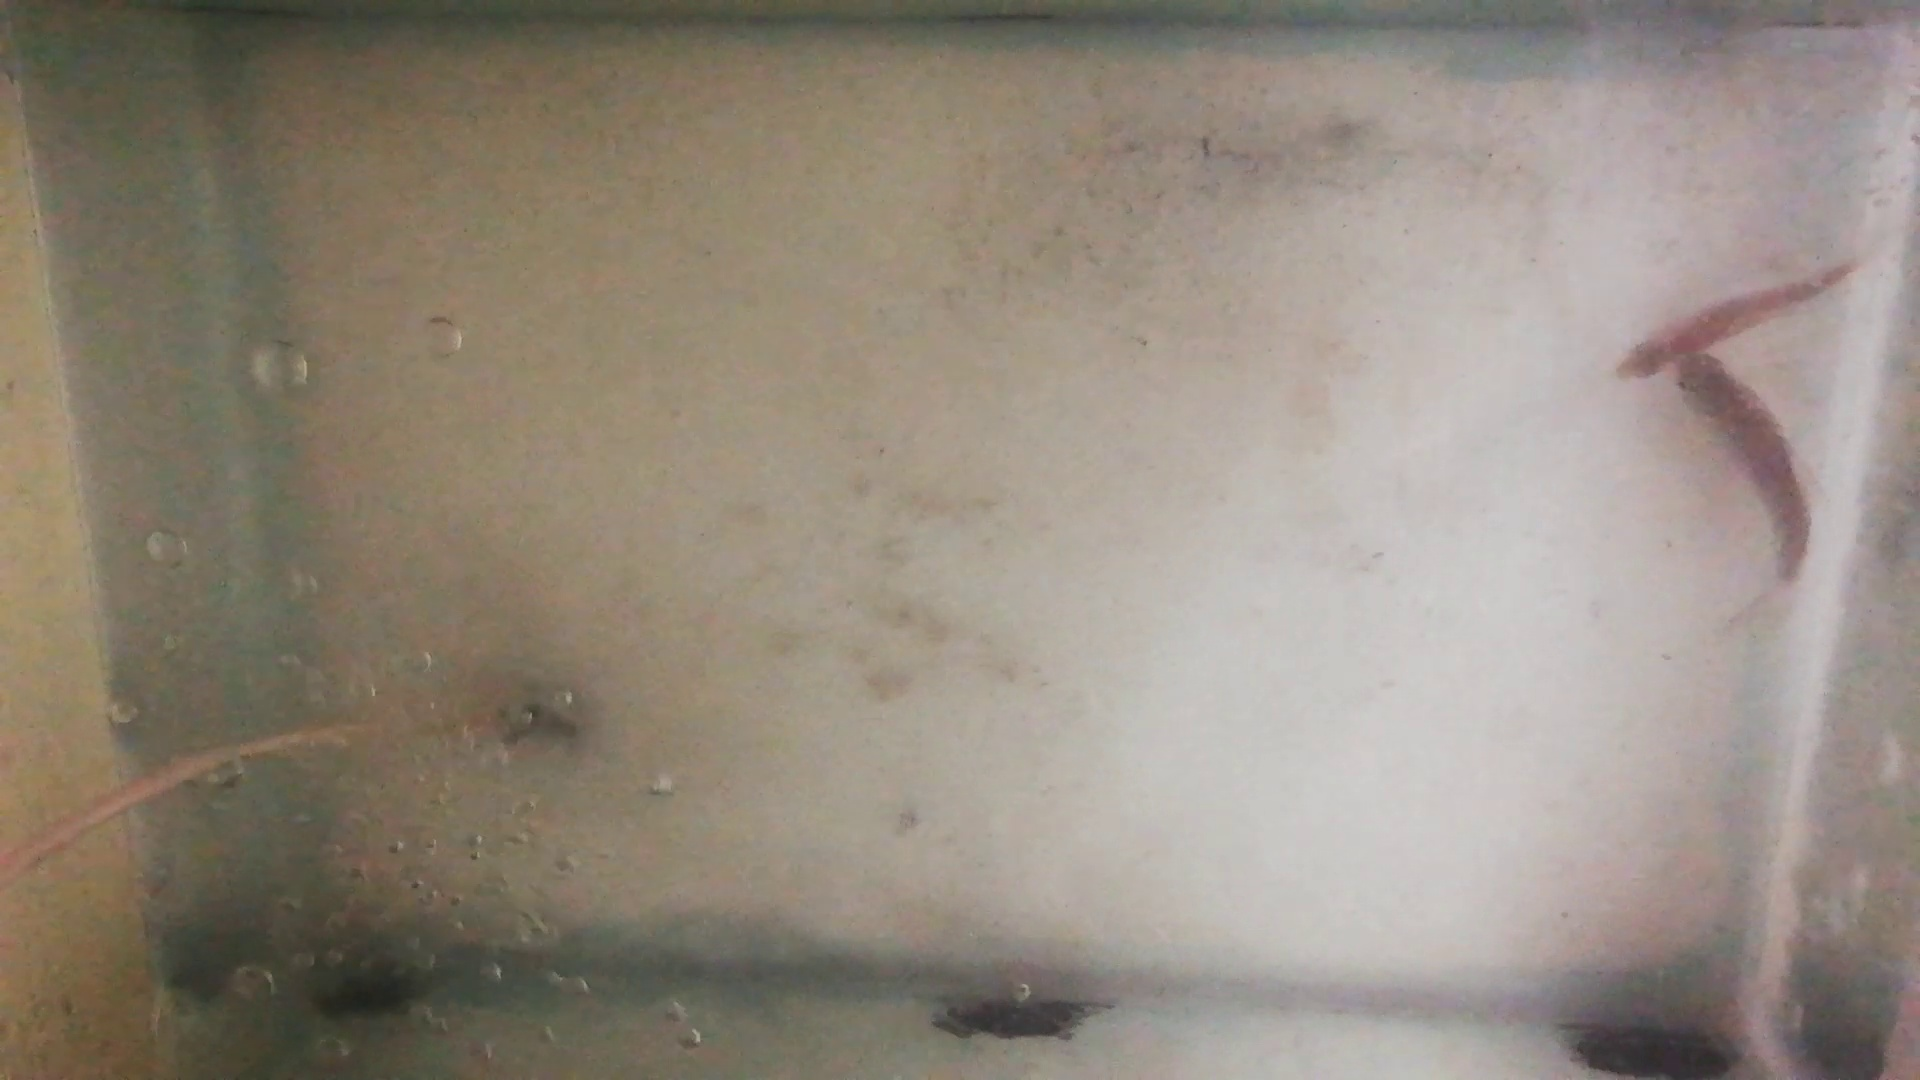fish: (1669, 344, 1815, 585), (1615, 269, 1851, 381)
